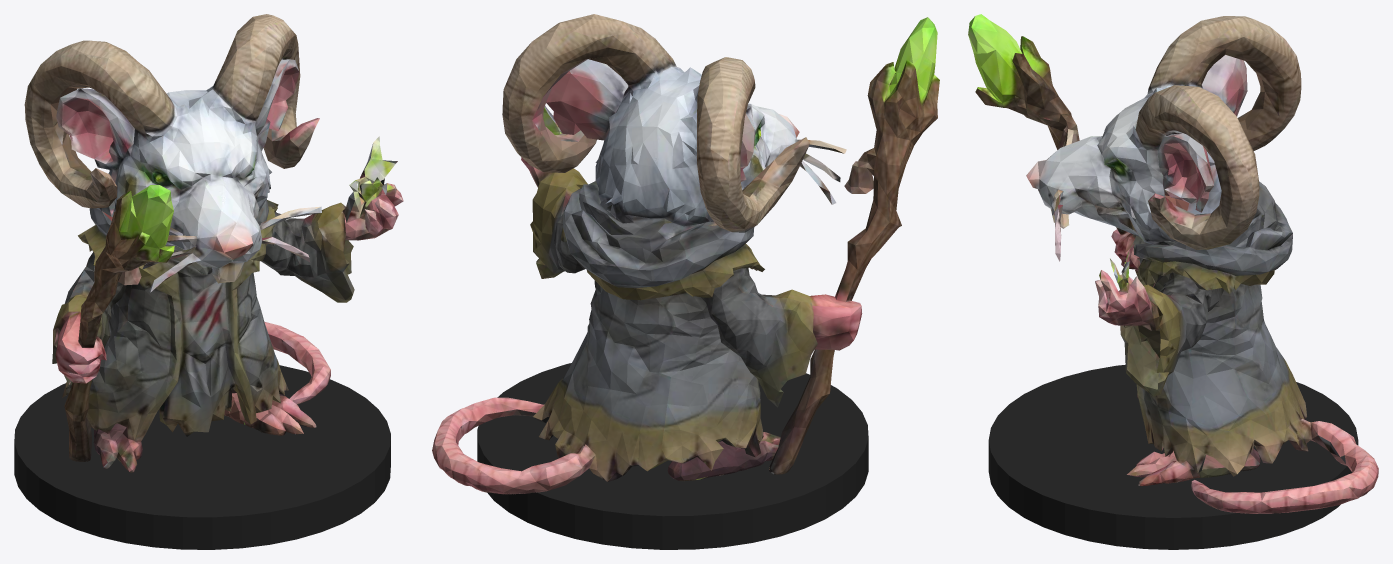
File: skv-grey-seer.glb
The picture shows the model from 3 angles, left to right: view 1: azimuth 30°, elevation 25°; view 2: azimuth 150°, elevation 25°; view 3: azimuth 270°, elevation 25°; orthographic projection. The views are drawn at different scales.
Visible parts, largest first — view 1: figure, base; view 2: figure, base; view 3: figure, base.
Boxes of the visible parts, <box> form: figure: <box>24,14,403,472</box>; base: <box>14,365,390,549</box>; figure: <box>432,14,939,494</box>; base: <box>477,363,868,549</box>; figure: <box>968,14,1378,513</box>; base: <box>988,364,1358,549</box>.
Size of the model in its own units: 1.31 by 1.57 by 1.4.
Materials: 2 (1 with a texture image).
